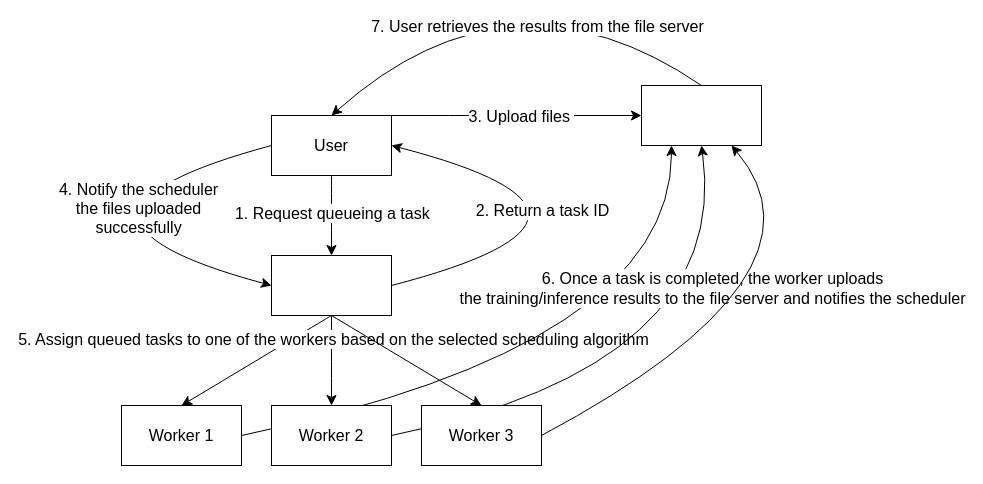
Some shapes in this 983 by 484 pixel diagram are drawn without their labels. Each missing label, with the centre of its shape:
File Server: (x=701, y=115)
Scheduler: (x=331, y=285)
